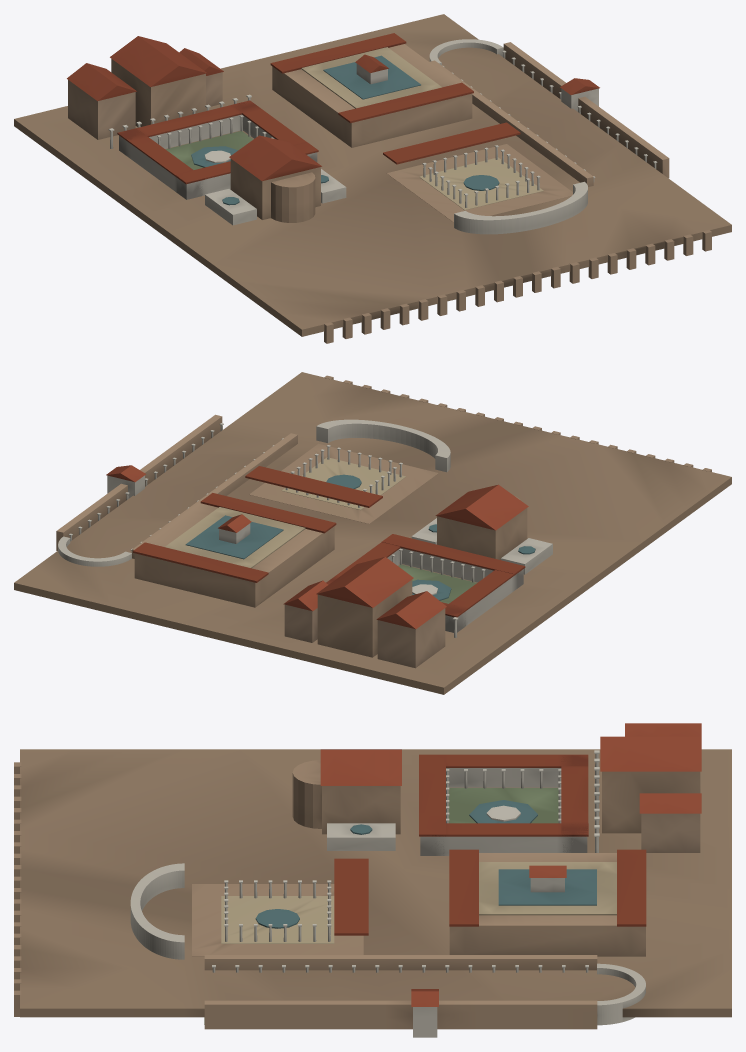
Rendered from palatine-palace.glb.
3 renders of one model, top to bottom at view 1: azimuth 30°, elevation 25°; view 2: azimuth 150°, elevation 25°; view 3: azimuth 270°, elevation 25°, orthographic. The views are drawn at different scales.
Parts seen in each view (by area): view 1: p0_platform, p1_stadium, p2_roofs; view 2: p0_platform, p1_stadium, p2_roofs; view 3: p0_platform, p1_stadium, p2_roofs.
Part boxes in pixels (x1,y1,x2,y2): p0_platform: (14, 14, 731, 343); p1_stadium: (68, 39, 669, 234); p2_roofs: (67, 33, 599, 184); p0_platform: (14, 372, 731, 694); p1_stadium: (56, 414, 552, 668); p2_roofs: (106, 465, 528, 629); p0_platform: (14, 749, 731, 1017); p1_stadium: (130, 750, 700, 1029); p2_roofs: (320, 723, 701, 1037).
Size of the model in its own units: 266 by 46.12 by 292.
